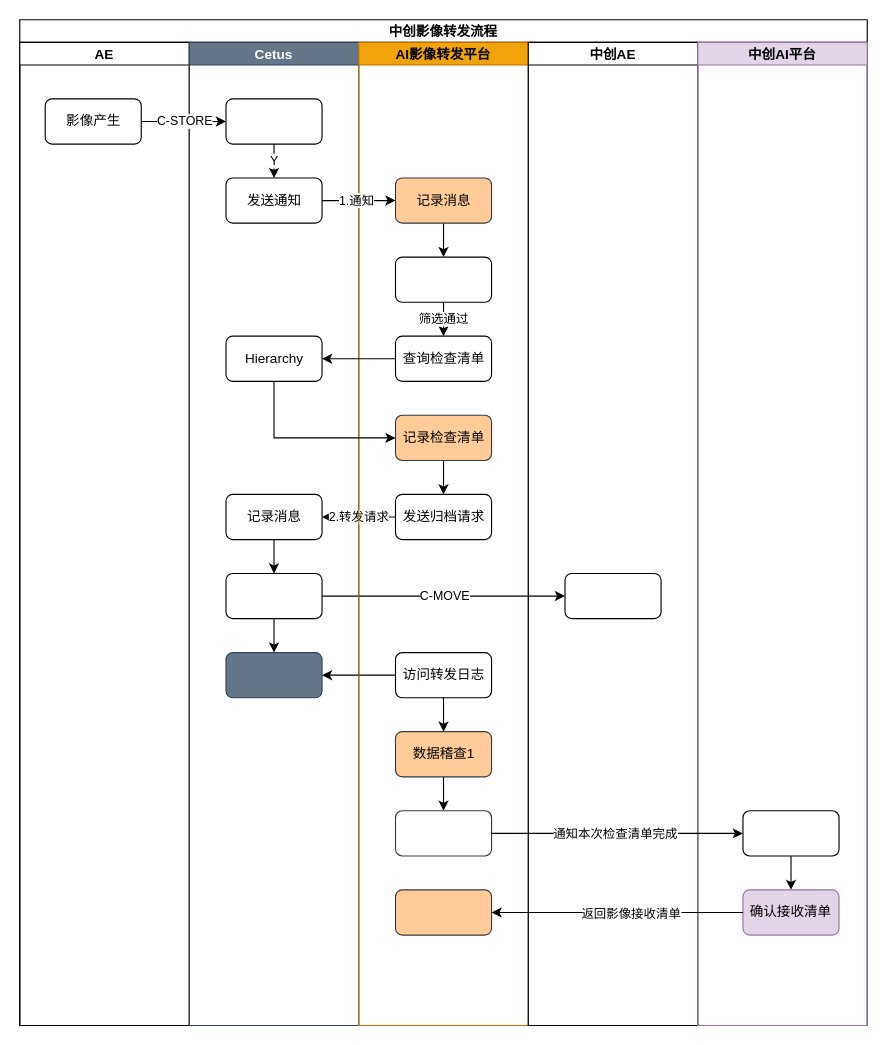
The diagram is 887 pixels wide and 1045 high, and some of its shapes have lost their labels. The centre of each missing label's shape, as x and y in pixels:
影像接收: the point at 612,595
影像转发: the point at 273,595
接收通知: the point at 790,833
数据稽查2: the point at 443,912
检查归档已完成？: the point at 273,121
记录转发日志: the point at 273,674
转发条件筛选: the point at 443,279
通知转发完成: the point at 443,833
